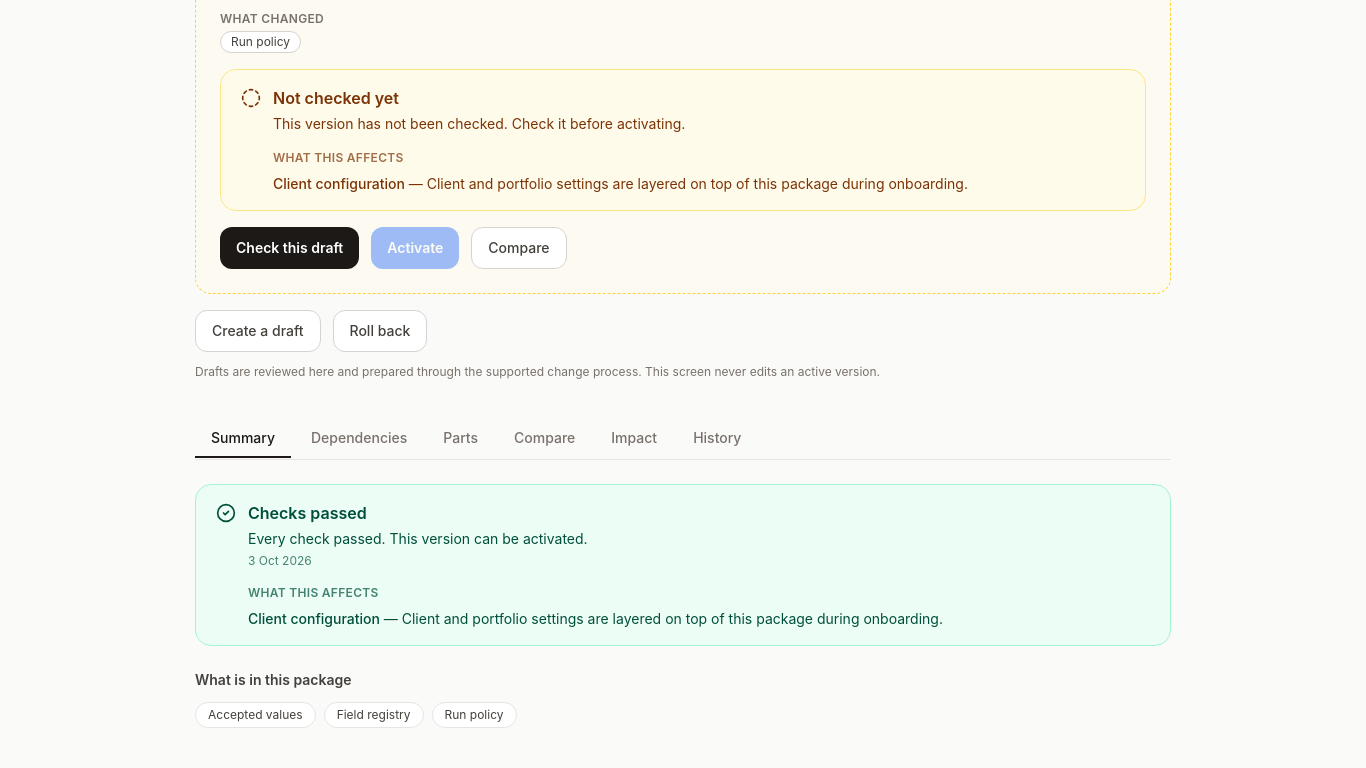
Test: versions › compares two versions and groups the changes
The image size is (1366, 768).
(page scrolled)
Click the 2nd button "Compare": [545, 439] box 498,420 -> 591,458
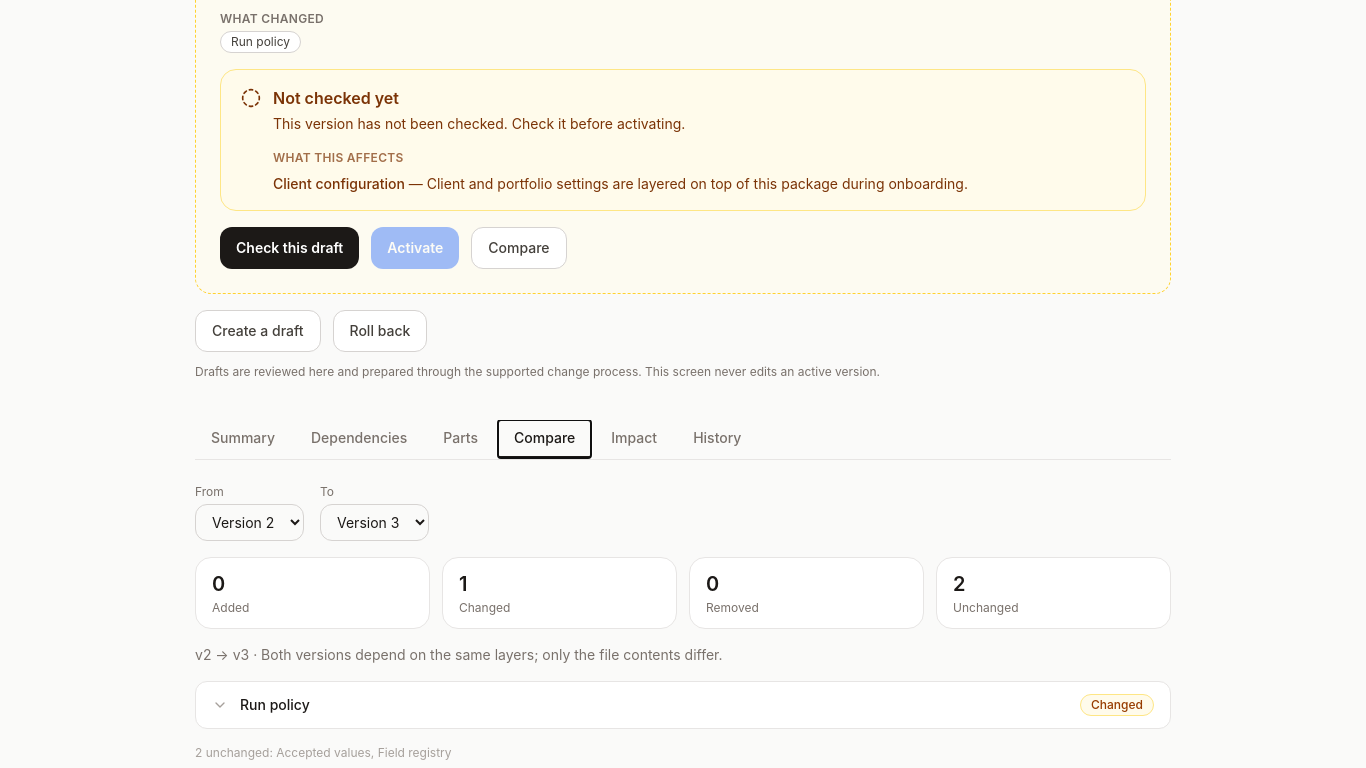
expect the text "v2 → v3" is shown: met, box 195,646 -> 722,663
expect the text "1" is shown: met, box 459,572 -> 468,596
expect the 1st text "0" is shown: met, box 212,572 -> 225,596
// The changed part opens to a line-by-line comparison.
Click the button "Run policy Changed": [275, 704] box 196,682 -> 1170,728
(page scrolled)
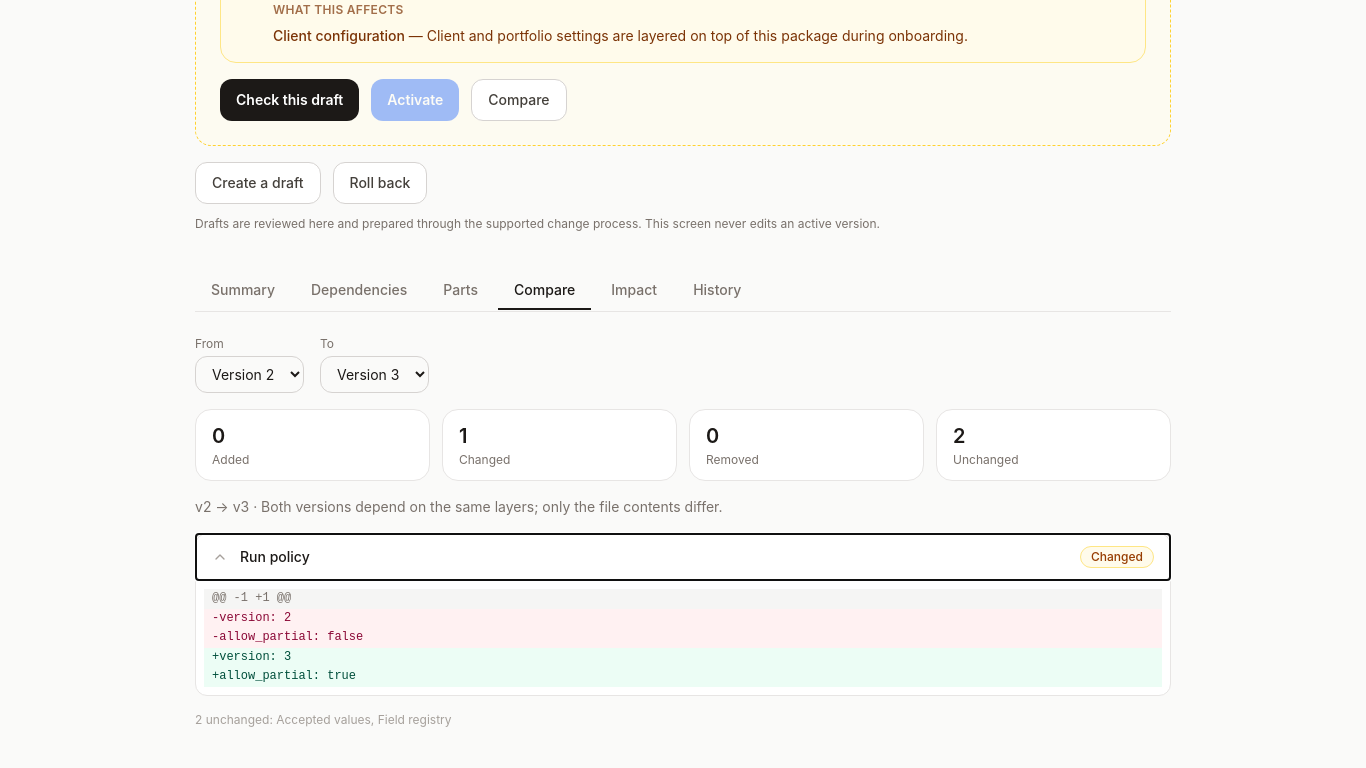
expect the text "-version: 2" is shown: met, box 204,608 -> 1162,628
expect the text "+version: 3" is shown: met, box 204,648 -> 1162,667
